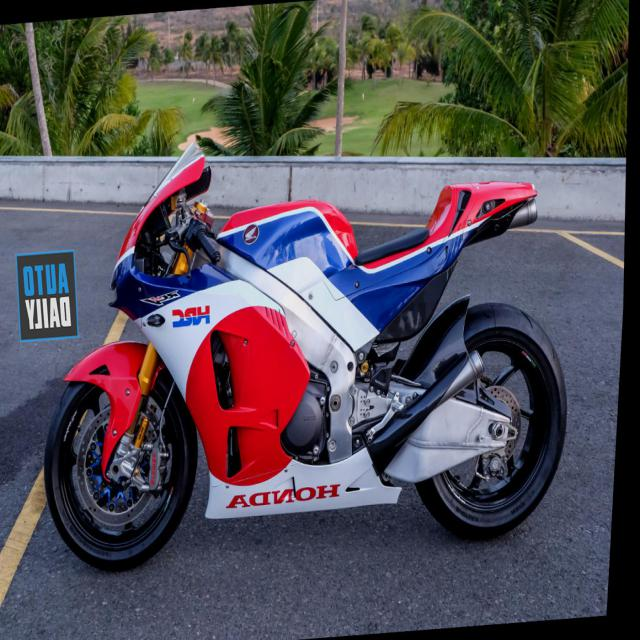HRC RCV 213: (30, 109, 591, 578)
